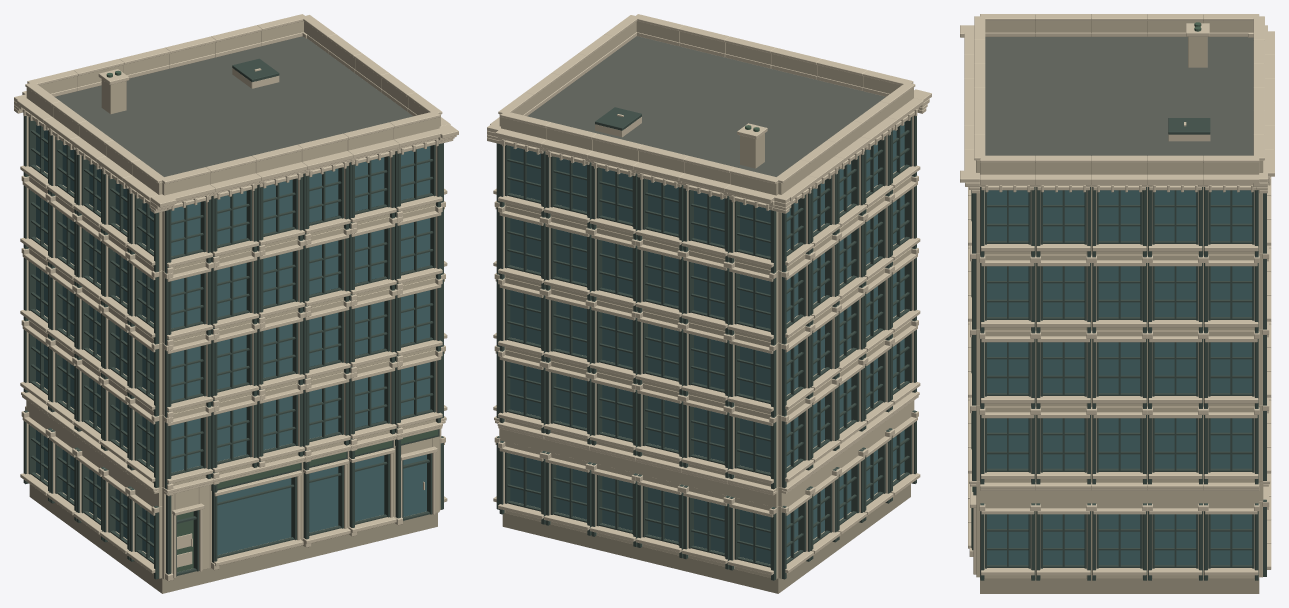
The model's file is soho-loft.glb.
3 views of the same model, side by side, from view 1: azimuth 30°, elevation 25°; view 2: azimuth 150°, elevation 25°; view 3: azimuth 270°, elevation 25° (orthographic). The views are drawn at different scales.
Visible parts, largest first — view 1: Connected roof.014, Foundation.014, opening/nyc/broad-display/glass.002, nyc-main/north/0/5833/glass.009, nyc-main/north/0/7500/glass.009, nyc-main/north/0/833/wall.009, opening/nyc/broad-display/trim.002, nyc-main/north/3/833/frame.009, nyc-main/north/2/833/frame.009, nyc-main/north/1/833/frame.009, nyc-main/west/0/9000/frame.012, nyc-main/west/2/9000/frame.012 (+131 smaller); view 2: Connected roof.014, Foundation.014, nyc-main/south/0/5833/frame.009, nyc-main/south/1/5833/frame.009, nyc-main/south/3/5833/frame.009, nyc-main/south/2/5833/frame.009, nyc-main/south/0/833/frame.009, nyc-main/south/3/833/frame.009, nyc-main/south/1/833/frame.009, nyc-main/south/2/833/frame.009, nyc-main/south/4/5833/frame.004, nyc-main/south/0/7500/frame.009 (+135 smaller); view 3: Connected roof.014, Foundation.014, nyc-main/east/1/1000/glass.012, nyc-main/east/1/3000/glass.012, nyc-main/east/1/5000/glass.012, nyc-main/east/2/1000/glass.012, nyc-main/east/2/3000/glass.012, nyc-main/east/2/5000/glass.012, nyc-main/east/3/1000/glass.009, nyc-main/east/3/3000/glass.009, nyc-main/east/3/5000/glass.009, nyc-main/east/0/3000/glass.012 (+117 smaller).
Part boxes in pixels (bbox=[...]): Connected roof.014: bbox=[55, 36, 412, 176]; Foundation.014: bbox=[29, 436, 437, 593]; opening/nyc/broad-display/glass.002: bbox=[217, 478, 291, 555]; nyc-main/north/0/5833/glass.009: bbox=[309, 466, 338, 532]; nyc-main/north/0/7500/glass.009: bbox=[355, 455, 384, 521]; nyc-main/north/0/833/wall.009: bbox=[162, 485, 209, 579]; opening/nyc/broad-display/trim.002: bbox=[214, 470, 303, 566]; nyc-main/north/3/833/frame.009: bbox=[164, 261, 211, 344]; nyc-main/north/2/833/frame.009: bbox=[164, 334, 211, 417]; nyc-main/north/1/833/frame.009: bbox=[164, 406, 211, 489]; nyc-main/west/0/9000/frame.012: bbox=[129, 488, 158, 579]; nyc-main/west/2/9000/frame.012: bbox=[129, 325, 158, 415]; Connected roof.014: bbox=[527, 36, 885, 176]; Foundation.014: bbox=[502, 439, 910, 593]; nyc-main/south/0/5833/frame.009: bbox=[591, 463, 637, 546]; nyc-main/south/1/5833/frame.009: bbox=[591, 372, 637, 455]; nyc-main/south/3/5833/frame.009: bbox=[591, 228, 637, 311]; nyc-main/south/2/5833/frame.009: bbox=[591, 300, 637, 383]; nyc-main/south/0/833/frame.009: bbox=[729, 496, 776, 580]; nyc-main/south/3/833/frame.009: bbox=[729, 262, 776, 344]; nyc-main/south/1/833/frame.009: bbox=[729, 406, 776, 489]; nyc-main/south/2/833/frame.009: bbox=[729, 334, 776, 417]; nyc-main/south/4/5833/frame.004: bbox=[591, 166, 637, 239]; nyc-main/south/0/7500/frame.009: bbox=[545, 452, 591, 535]; Connected roof.014: bbox=[985, 36, 1253, 155]; Foundation.014: bbox=[980, 578, 1259, 593]; nyc-main/east/1/1000/glass.012: bbox=[1210, 418, 1252, 468]; nyc-main/east/1/3000/glass.012: bbox=[1154, 418, 1196, 468]; nyc-main/east/1/5000/glass.012: bbox=[1098, 418, 1140, 468]; nyc-main/east/2/1000/glass.012: bbox=[1210, 342, 1252, 392]; nyc-main/east/2/3000/glass.012: bbox=[1154, 342, 1196, 392]; nyc-main/east/2/5000/glass.012: bbox=[1098, 342, 1140, 392]; nyc-main/east/3/1000/glass.009: bbox=[1210, 266, 1252, 316]; nyc-main/east/3/3000/glass.009: bbox=[1154, 266, 1196, 316]; nyc-main/east/3/5000/glass.009: bbox=[1098, 266, 1140, 316]; nyc-main/east/0/3000/glass.012: bbox=[1154, 514, 1196, 564].
Size of the model in its own units: 13.12 by 17.96 by 11.27.
